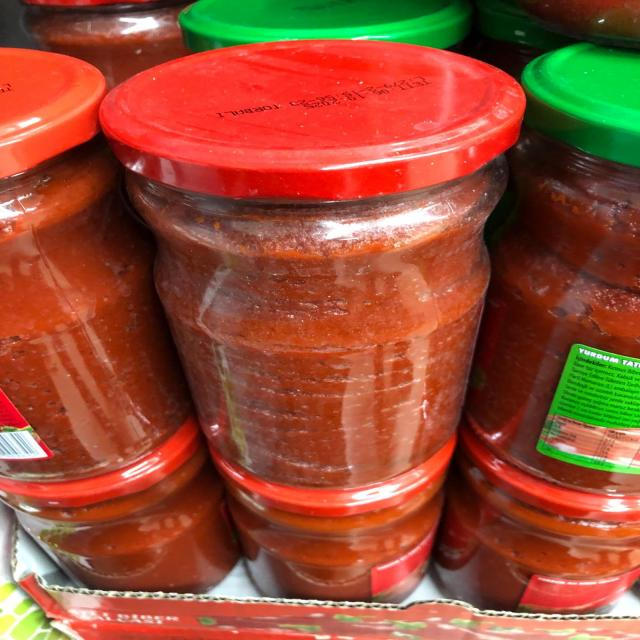tomato paste: (102, 50, 530, 492)
